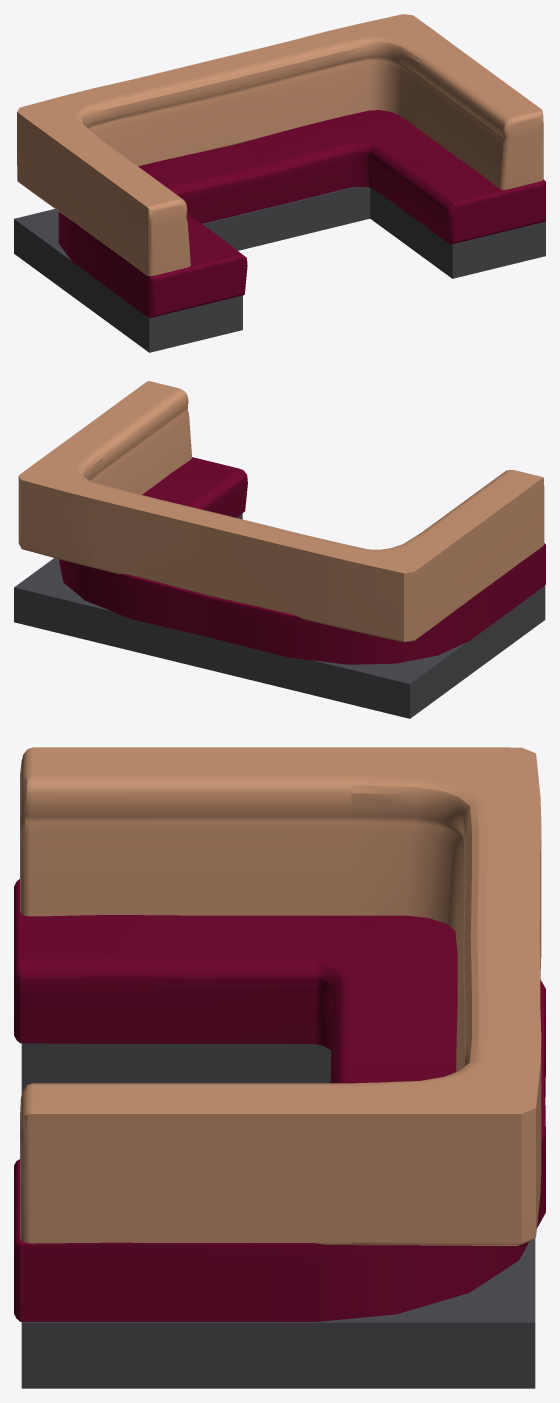
Rendered from seat with no wood .fbx.
3 renders of one model, top to bottom at view 1: azimuth 30°, elevation 25°; view 2: azimuth 150°, elevation 25°; view 3: azimuth 270°, elevation 25°, orthographic. The views are drawn at different scales.
Parts seen in each view (by area): view 1: polySurface7, polySurface9, polySurface8; view 2: polySurface7, polySurface9, polySurface8; view 3: polySurface7, polySurface9, polySurface8.
Boxes of the visible parts, bbox=[...] form: polySurface7: bbox=[17, 14, 543, 275]; polySurface9: bbox=[58, 110, 545, 317]; polySurface8: bbox=[14, 186, 545, 352]; polySurface7: bbox=[18, 381, 544, 642]; polySurface9: bbox=[59, 457, 545, 664]; polySurface8: bbox=[14, 513, 545, 718]; polySurface7: bbox=[20, 747, 541, 1245]; polySurface9: bbox=[14, 879, 545, 1321]; polySurface8: bbox=[21, 1043, 535, 1388].
Size of the model in its own units: 5.92 by 2.06 by 3.62.
